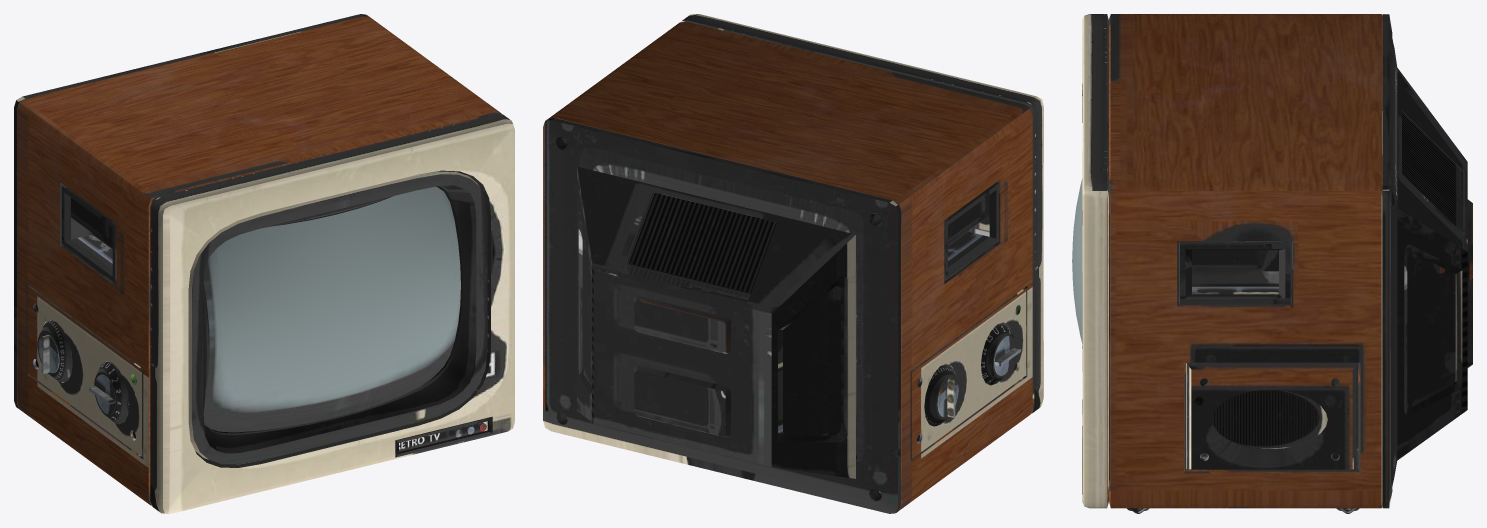
File: Tele.obj
The picture shows the model from 3 angles, left to right: view 1: azimuth 30°, elevation 25°; view 2: azimuth 150°, elevation 25°; view 3: azimuth 270°, elevation 25°; orthographic projection. The views are drawn at different scales.
Parts seen in each view (by area): view 1: defaultMaterial; view 2: defaultMaterial; view 3: defaultMaterial.
Boxes of the visible parts, x1,y1,x2,y2 form: defaultMaterial: (14,14,514,513); defaultMaterial: (543,14,1043,513); defaultMaterial: (1072,14,1472,513).
Bounding box in the file's own units: 2 × 1.66 × 1.81.
Materials: 1 (1 with a texture image).
